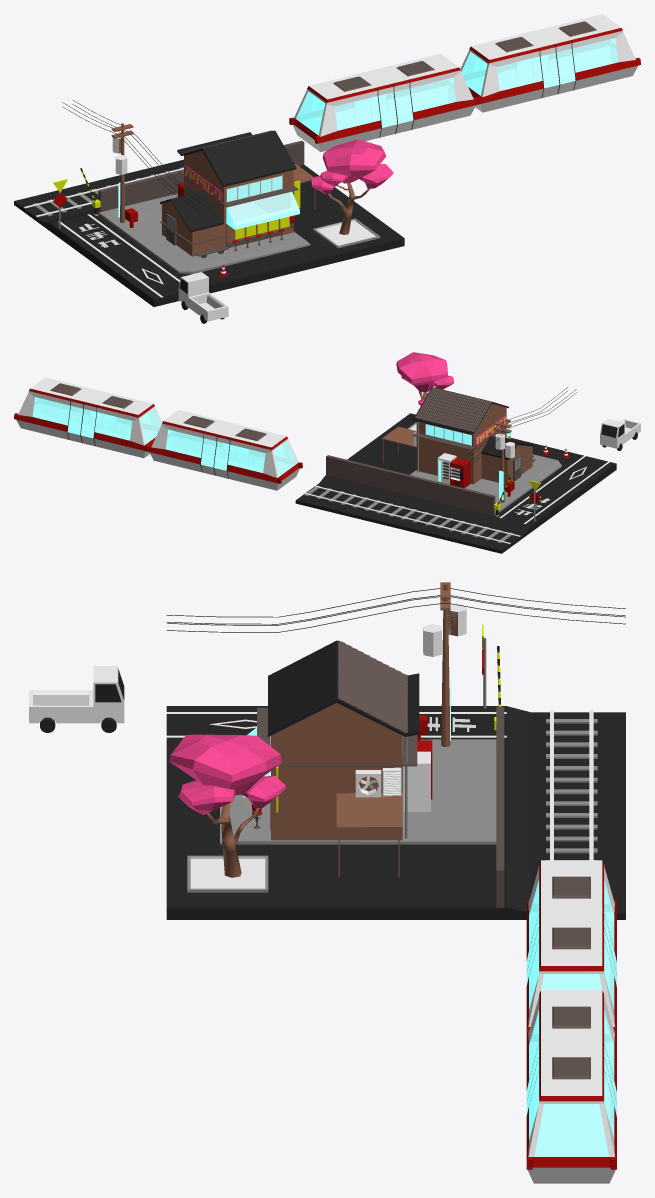
File: paysage.gltf
3 views of the same model, one above another, from view 1: azimuth 30°, elevation 25°; view 2: azimuth 150°, elevation 25°; view 3: azimuth 270°, elevation 25° (orthographic). The views are drawn at different scales.
Parts seen in each view (by area): view 1: wagon, road, house, trottoir.001, fleats, wall, car, earth, cable, roadstrip, three, rebord.002 (+1 smaller); view 2: wagon, road, house, wall, trottoir.001, fleats, car, rails, machineBoisson2, cable, roadstrip, machineBoisson1 (+2 smaller); view 3: road, wagon, house, trottoir.001, fleats, car, earth, cable, wall, machineBoisson1, rails, poteau (+3 smaller).
Part boxes in pixels (x1=…): wagon: x1=289, y1=14, x2=640, y2=151; road: x1=14, y1=159, x2=404, y2=306; house: x1=160, y1=130, x2=315, y2=256; trottoir.001: x1=99, y1=193, x2=310, y2=274; fleats: x1=310, y1=139, x2=393, y2=194; wall: x1=98, y1=140, x2=304, y2=212; car: x1=178, y1=272, x2=228, y2=321; earth: x1=313, y1=218, x2=380, y2=248; cable: x1=62, y1=100, x2=212, y2=212; roadstrip: x1=58, y1=214, x2=179, y2=297; three: x1=328, y1=182, x2=370, y2=234; rebord.002: x1=178, y1=169, x2=298, y2=207; wagon: x1=14, y1=377, x2=302, y2=490; road: x1=295, y1=413, x2=616, y2=553; house: x1=381, y1=387, x2=534, y2=484; wall: x1=326, y1=455, x2=495, y2=515; trottoir.001: x1=410, y1=454, x2=561, y2=514; fleats: x1=396, y1=352, x2=453, y2=405; car: x1=600, y1=418, x2=640, y2=448; rails: x1=303, y1=485, x2=520, y2=544; machineBoisson2: x1=450, y1=457, x2=470, y2=488; cable: x1=453, y1=387, x2=576, y2=472; roadstrip: x1=499, y1=455, x2=609, y2=523; machineBoisson1: x1=437, y1=453, x2=456, y2=484; road: x1=166, y1=706, x2=625, y2=919; wagon: x1=526, y1=860, x2=616, y2=1183; house: x1=243, y1=640, x2=419, y2=877; trottoir.001: x1=220, y1=739, x2=496, y2=844; fleats: x1=169, y1=734, x2=285, y2=815; car: x1=29, y1=666, x2=124, y2=723; earth: x1=187, y1=855, x2=268, y2=892; cable: x1=166, y1=588, x2=625, y2=632; wall: x1=496, y1=707, x2=504, y2=907; machineBoisson1: x1=403, y1=751, x2=430, y2=811; rails: x1=550, y1=710, x2=593, y2=860; poteau: x1=441, y1=583, x2=457, y2=746.
Bounding box in the file's own units: 40.95 × 7.04 × 21.43.
